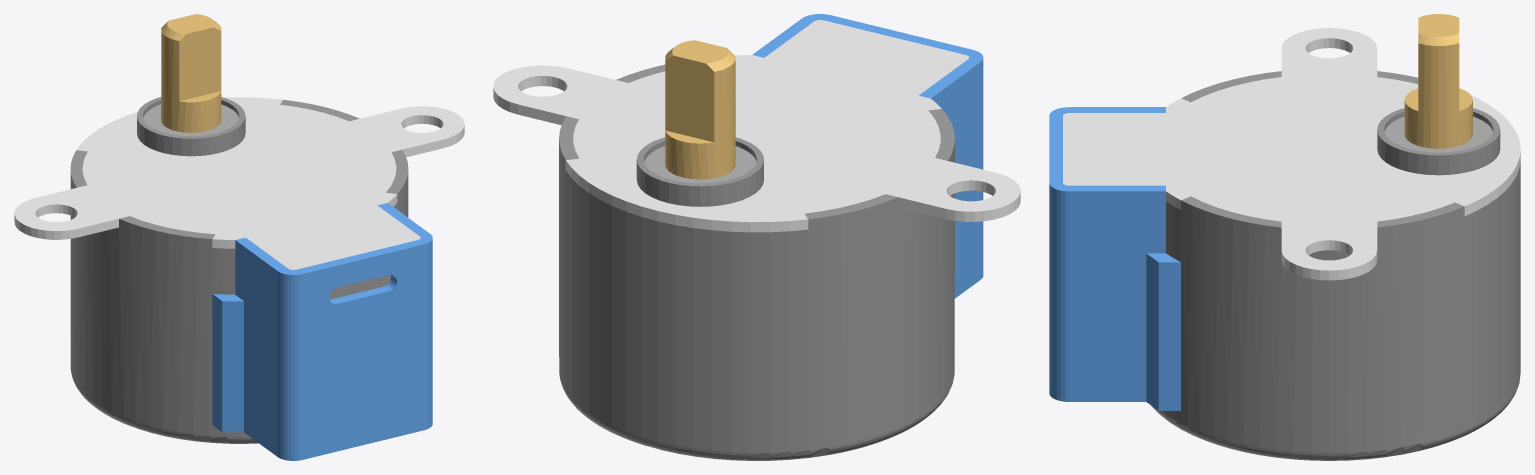
Rendered from adafruit-858-stepper-5v.glb.
3 renders of one model, left to right at view 1: azimuth 30°, elevation 25°; view 2: azimuth 150°, elevation 25°; view 3: azimuth 270°, elevation 25°, orthographic. The views are drawn at different scales.
Visible parts, largest first — view 1: colour 5, colour 4, colour 1, colour 3, colour 2; view 2: colour 1, colour 5, colour 3, colour 4, colour 2; view 3: colour 1, colour 5, colour 4, colour 3, colour 2.
Part boxes in pixels (x1=…): colour 5: x1=14, y1=97, x2=464, y2=269; colour 4: x1=212, y1=203, x2=432, y2=460; colour 1: x1=70, y1=97, x2=408, y2=443; colour 3: x1=161, y1=14, x2=221, y2=132; colour 2: x1=143, y1=104, x2=238, y2=136; colour 1: x1=559, y1=64, x2=954, y2=460; colour 5: x1=493, y1=20, x2=1020, y2=232; colour 3: x1=665, y1=40, x2=735, y2=179; colour 4: x1=752, y1=14, x2=983, y2=298; colour 2: x1=644, y1=146, x2=756, y2=183; colour 1: x1=1152, y1=71, x2=1520, y2=460; colour 5: x1=1063, y1=28, x2=1520, y2=280; colour 4: x1=1049, y1=107, x2=1180, y2=410; colour 3: x1=1404, y1=14, x2=1472, y2=148; colour 2: x1=1384, y1=116, x2=1492, y2=152.
Bounding box in the file's own units: 0.042 × 0.029 × 0.0345.
